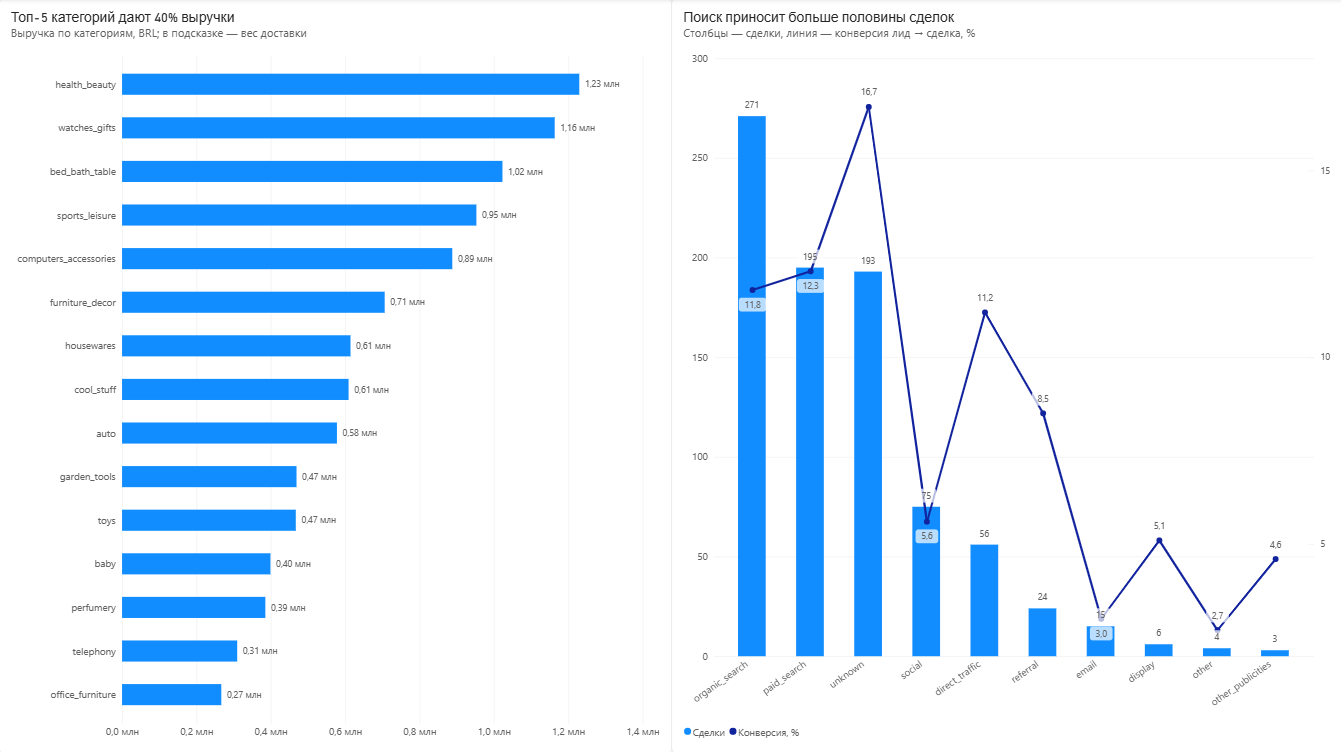

The dashboard page shown, as its layout file describes it:
{"tool":"powerbi","page":{"name":"Категории и продавцы","canvas":[1920,1080],"ordinal":1},"visuals":[{"type":"clusteredBarChart","title":"Топ-5 категорий дают 40% выручки","fields":{"Category":["v_category.category"],"Y":["Sum(v_category.revenue)"]},"box":[0,0,960.7,1080.4],"z":0},{"type":"lineClusteredColumnComboChart","title":"Поиск приносит больше половины сделок","fields":{"Category":["v_seller_funnel.origin"],"Y":["Sum(v_seller_funnel.deals)"],"Y2":["Avg(v_seller_funnel.conversion_pct)"]},"box":[960.2,0,960.2,1079.5],"z":1}]}

Visuals, with their boxes in screenshot pixels (x1, y1, x2, y2), scaled from the page's 1920x1080 canvas onto the 1341x752 screenshot:
"Топ-5 категорий дают 40% выручки" clusteredBarChart: pyautogui.locateOnScreen(0, 0, 671, 751)
"Поиск приносит больше половины сделок" lineClusteredColumnComboChart: pyautogui.locateOnScreen(671, 0, 1340, 751)
